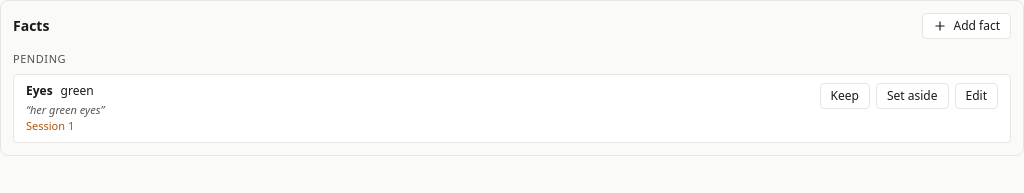
EntityPanel › keeps a proposed fact and can mark it unreviewed again
The width and height of the screenshot is (1024, 193).
Click the button "Keep": (845, 96) [820,82,870,108]
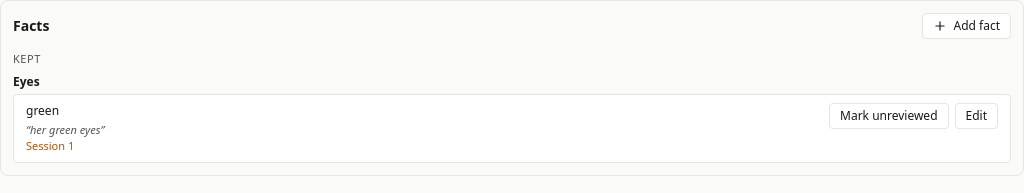
Click the button "Mark unreviewed": (889, 116) [829,102,948,128]
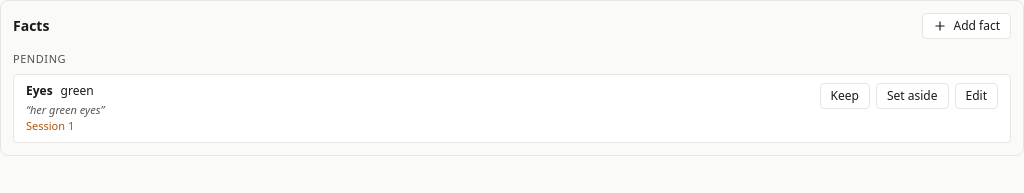
Expected: the element "Pending" is shown, [13,51,1011,143]
Expected: the heading "Kept" is gone
